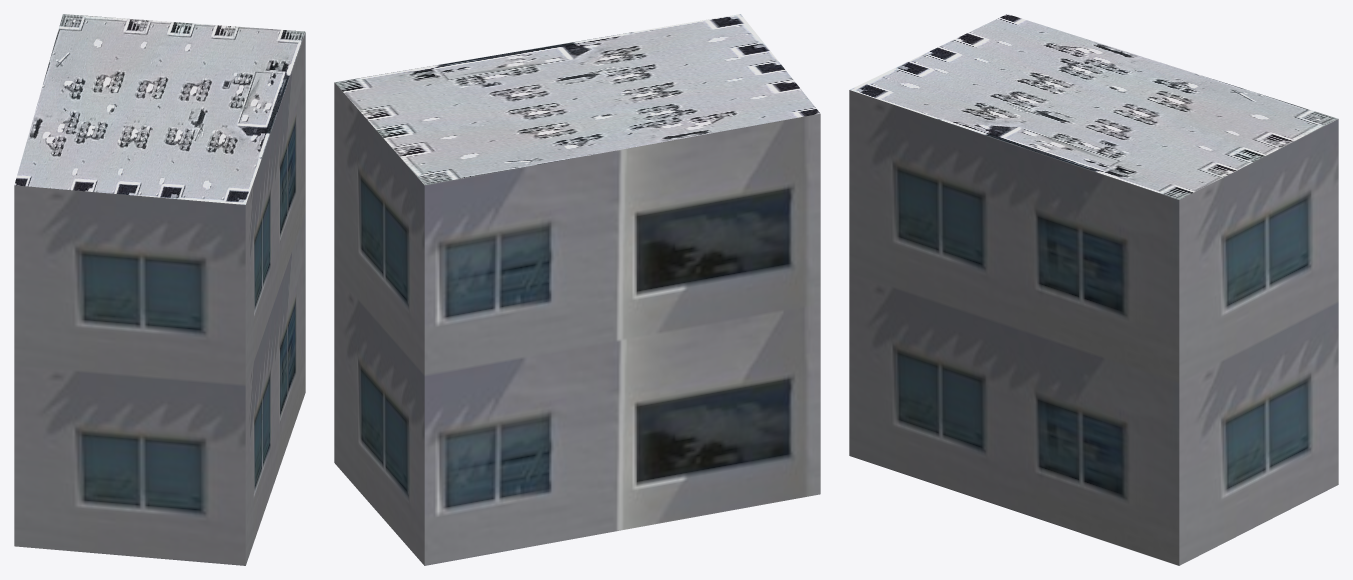
The model's file is ResTex__2711.fbx.
3 renders of one model, left to right at view 1: azimuth 30°, elevation 25°; view 2: azimuth 150°, elevation 25°; view 3: azimuth 270°, elevation 25°, orthographic. The views are drawn at different scales.
Parts seen in each view (by area): view 1: CityEngineMaterial_10_m, CityEngineMaterial_m; view 2: CityEngineMaterial_10_m, CityEngineMaterial_m; view 3: CityEngineMaterial_10_m, CityEngineMaterial_m.
Part boxes in pixels (box(x1,y1,x2,y2)): CityEngineMaterial_10_m: box(14, 32, 305, 565); CityEngineMaterial_m: box(14, 14, 305, 204); CityEngineMaterial_10_m: box(334, 82, 820, 565); CityEngineMaterial_m: box(335, 14, 819, 185); CityEngineMaterial_10_m: box(849, 90, 1338, 565); CityEngineMaterial_m: box(850, 14, 1338, 199).
Size of the model in its own units: 6.54 by 6 by 7.27.
2 materials, 2 textured.
